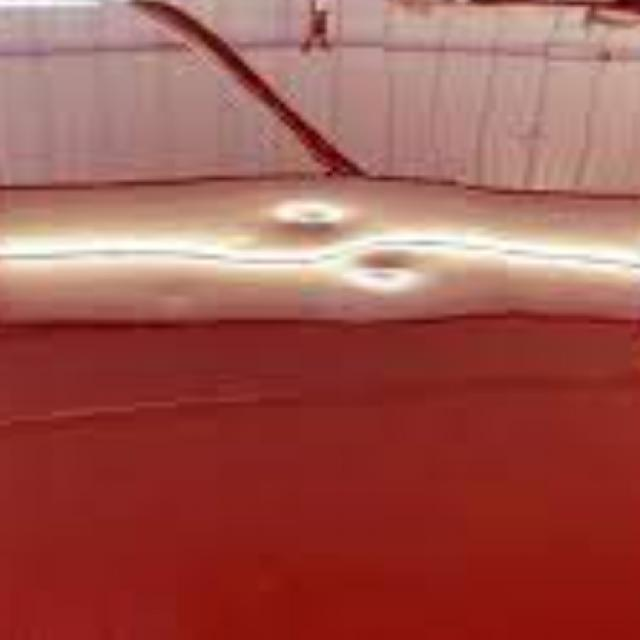dents: (326, 218, 477, 303), (234, 158, 356, 239)
